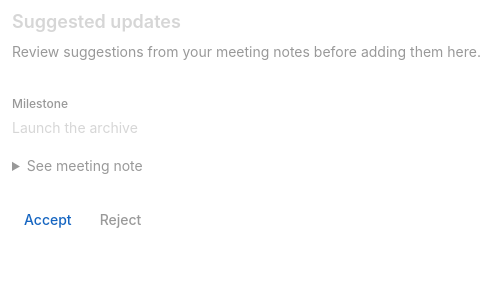
Test: shows a truthful review_required decision result
The image size is (497, 283).
Click the button "Accept" at {"x": 48, "y": 220}, box [12, 200, 84, 240]
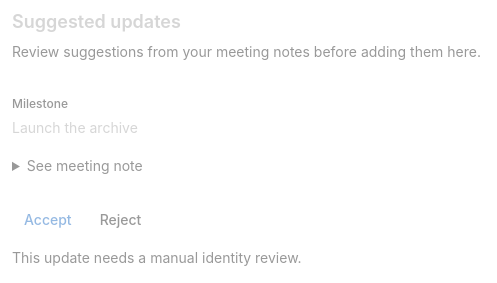
Check: the text "This update needs a manual identity review." is shown, box [12, 249, 302, 266]
